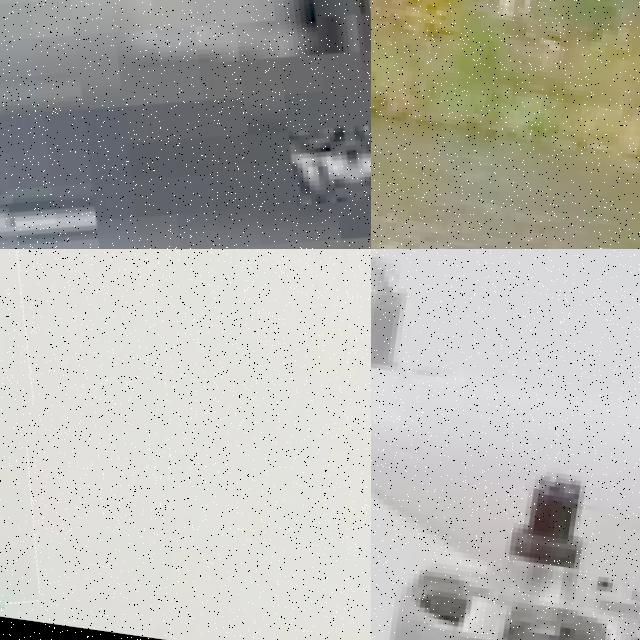0: (0, 0, 371, 249)
drone: (0, 249, 88, 617)
